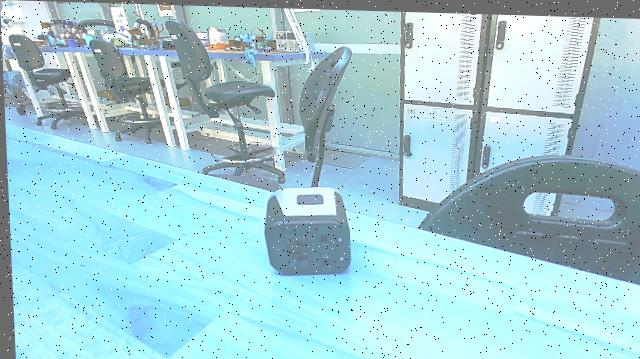adapter: (257, 179, 355, 283)
